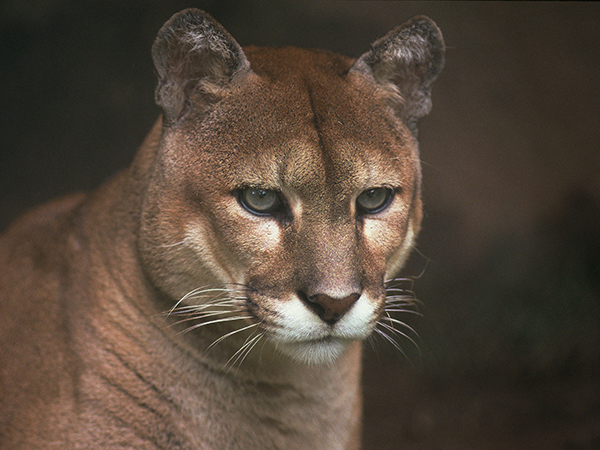OncaParda: (20, 8, 447, 447)
